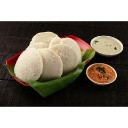idly: (15, 48, 42, 79), (39, 46, 62, 79), (54, 44, 78, 72), (62, 37, 81, 65), (30, 31, 59, 45)
